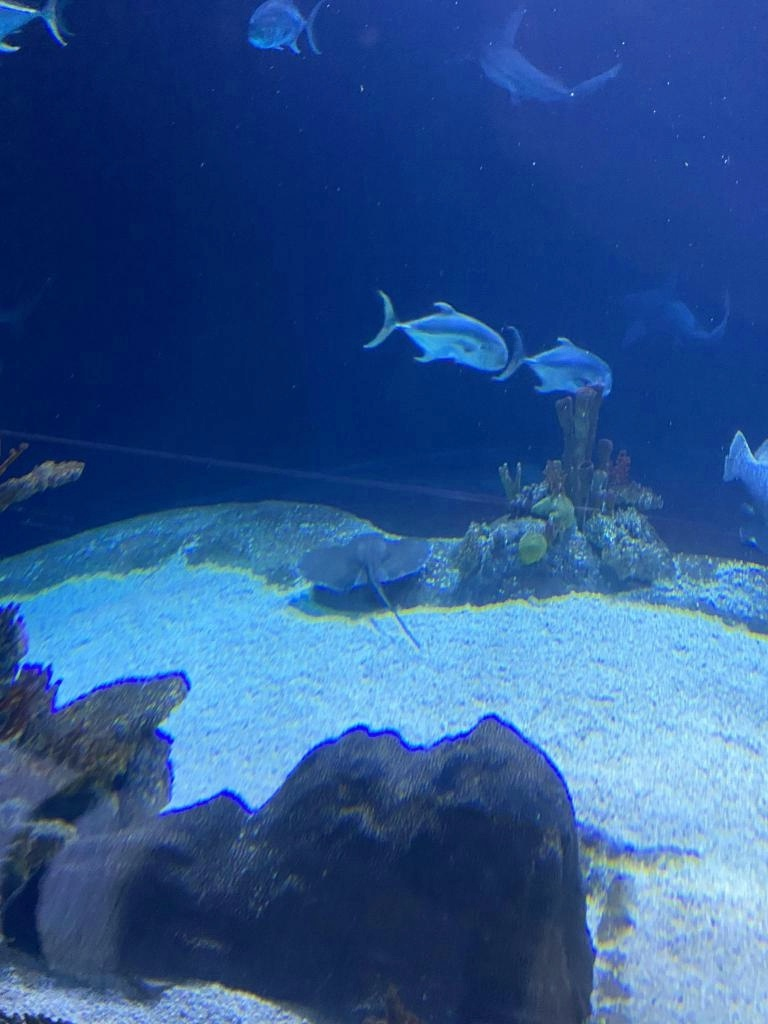fish: (363, 286, 511, 374), (490, 327, 616, 401), (246, 2, 326, 58), (726, 430, 768, 536), (1, 0, 65, 56)
shark: (455, 4, 618, 108), (602, 264, 730, 348)
stingray: (296, 530, 434, 594)
